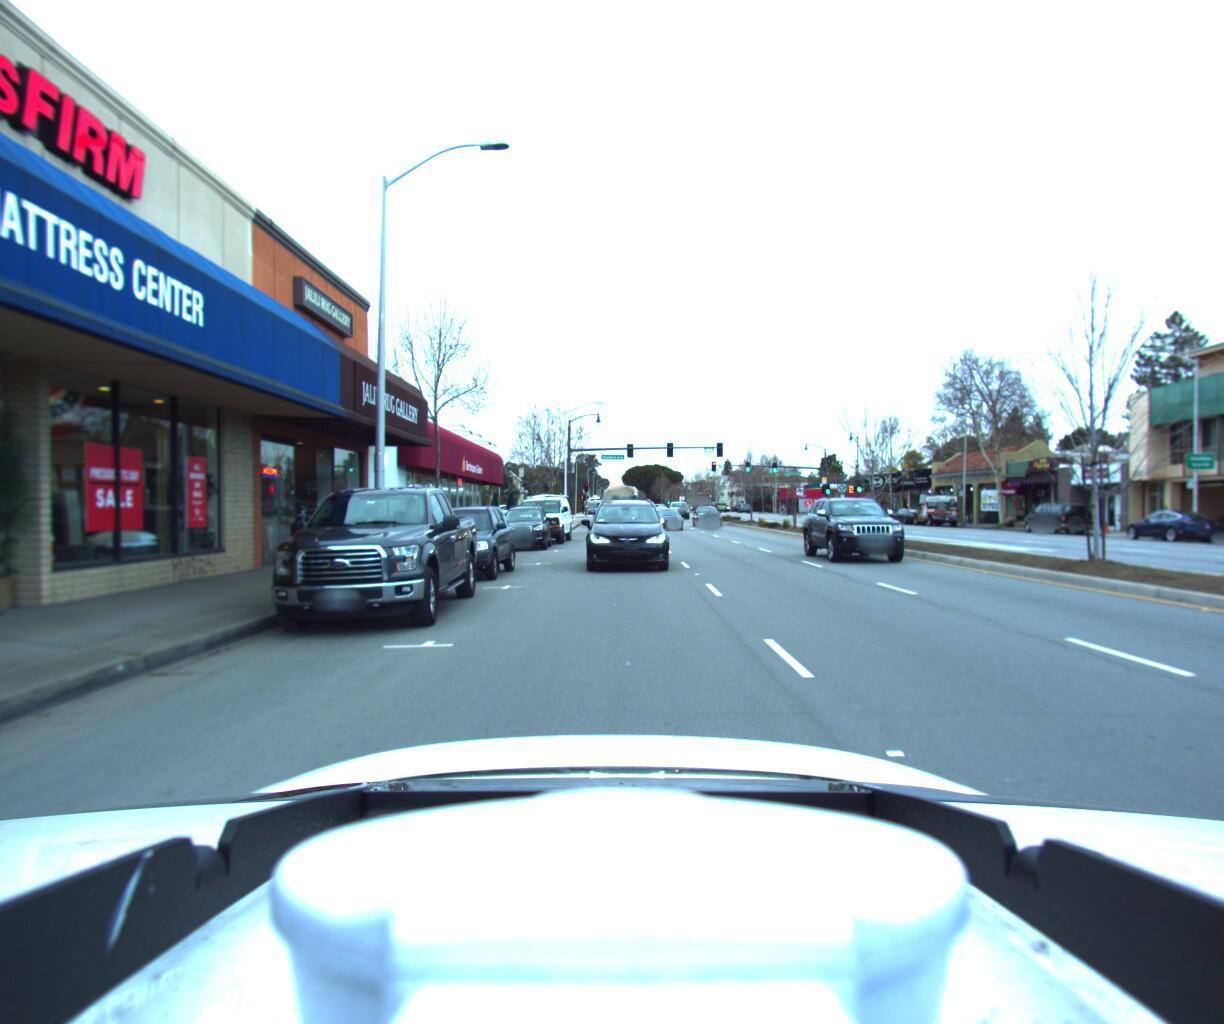bus: (596, 475, 637, 518)
car: (401, 502, 517, 583), (804, 488, 924, 565), (584, 493, 668, 573), (1114, 507, 1224, 543), (509, 492, 570, 546), (492, 502, 549, 552), (1015, 500, 1094, 534), (908, 502, 962, 526), (691, 500, 725, 527), (883, 505, 927, 524), (653, 506, 686, 530), (668, 495, 693, 518)
truck: (248, 474, 479, 644)
